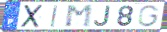8: (116, 5, 135, 27)
G: (137, 4, 161, 27)
I: (49, 5, 59, 28)
J: (93, 5, 111, 27)
M: (65, 4, 94, 29)
X: (19, 4, 44, 29)
